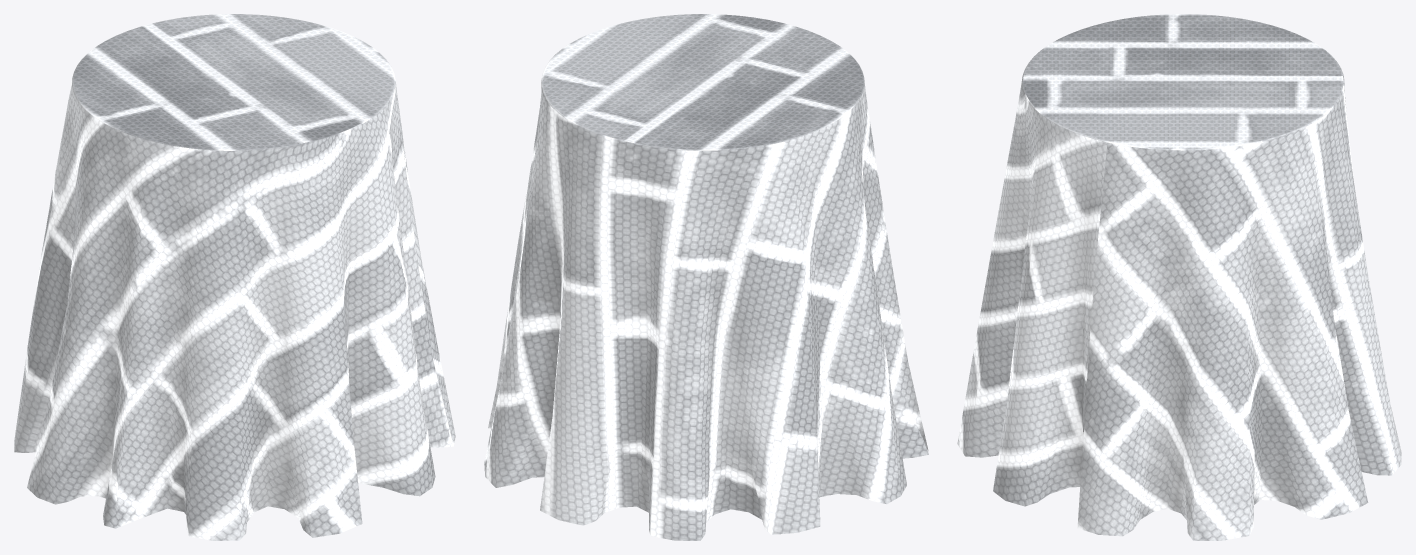
The model's file is SM_TableFabric.fbx.
3 renders of one model, left to right at view 1: azimuth 30°, elevation 25°; view 2: azimuth 150°, elevation 25°; view 3: azimuth 270°, elevation 25°, orthographic.
Parts seen in each view (by area): view 1: SM_TableFabric; view 2: SM_TableFabric; view 3: SM_TableFabric.
Part boxes in pixels (x1,y1,x2,y2): SM_TableFabric: (14,14,455,540); SM_TableFabric: (484,14,928,540); SM_TableFabric: (957,14,1401,540).
Bounding box in the file's own units: 131 × 129 × 118.
1 material, 1 textured.
